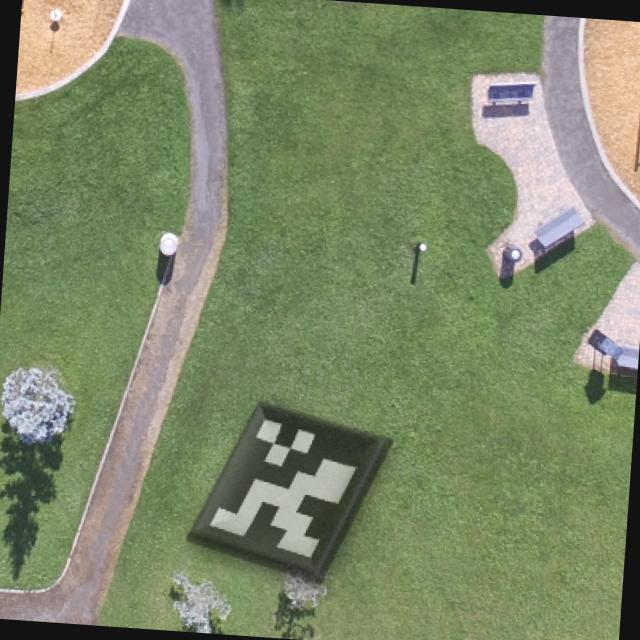marker: (172, 386, 410, 599)
